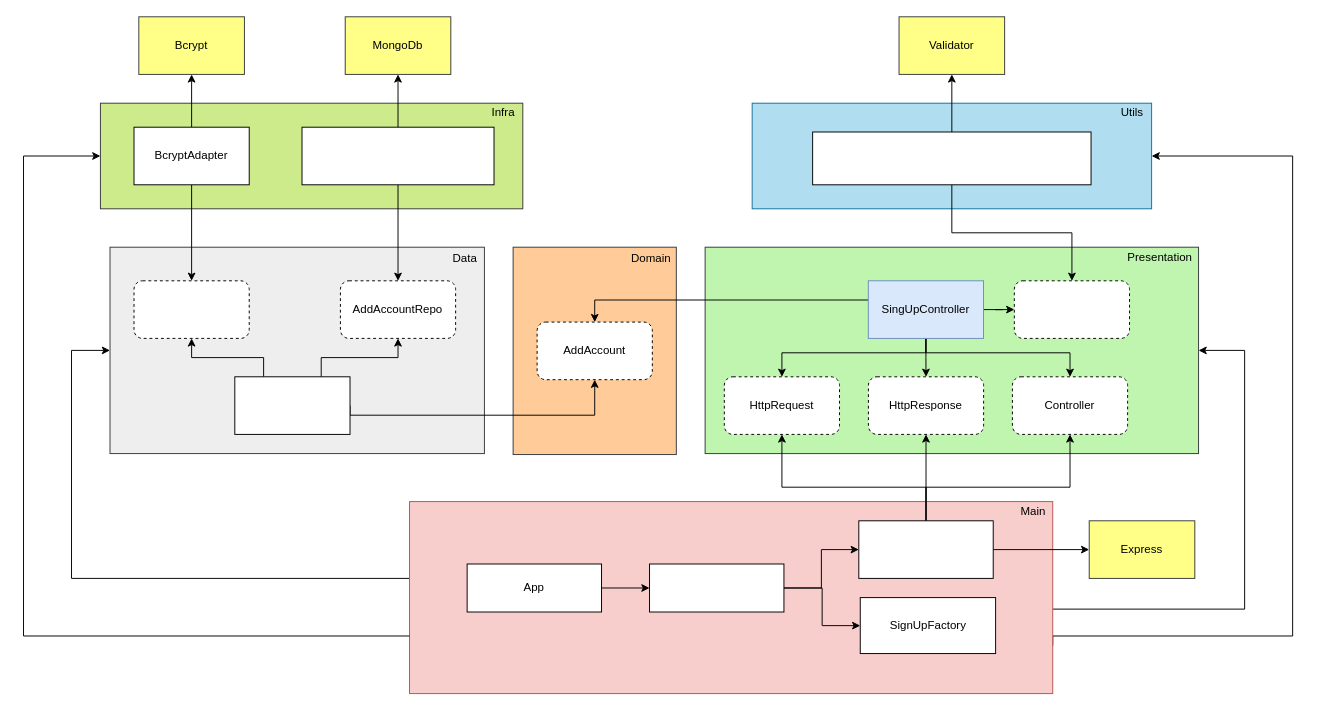
Some shapes in this 1317 by 710 pixel diagram are drawn without their labels. The shapes that lost their labels are listed below. From the top down, each one's box as (x1, y1, x2, y2) in pixels, then its label:
(301, 126, 494, 185): AccountMongoRepo
(812, 131, 1091, 185): EmailValidatorAdapter
(133, 280, 249, 338): Encrypter
(1013, 280, 1130, 338): EmailValidator
(234, 376, 350, 434): DbAddAccount
(858, 520, 993, 578): ExpressRouteAdapter
(649, 563, 784, 612): SignUpRouter
